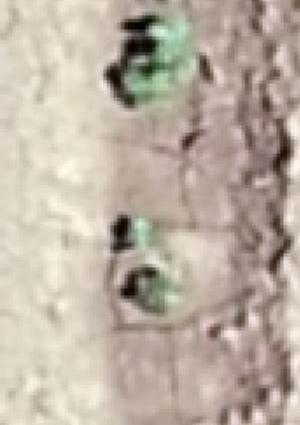cotton: (129, 72, 156, 102), (144, 276, 171, 305), (151, 20, 191, 39), (158, 35, 184, 62), (151, 57, 183, 76), (131, 219, 147, 246)
